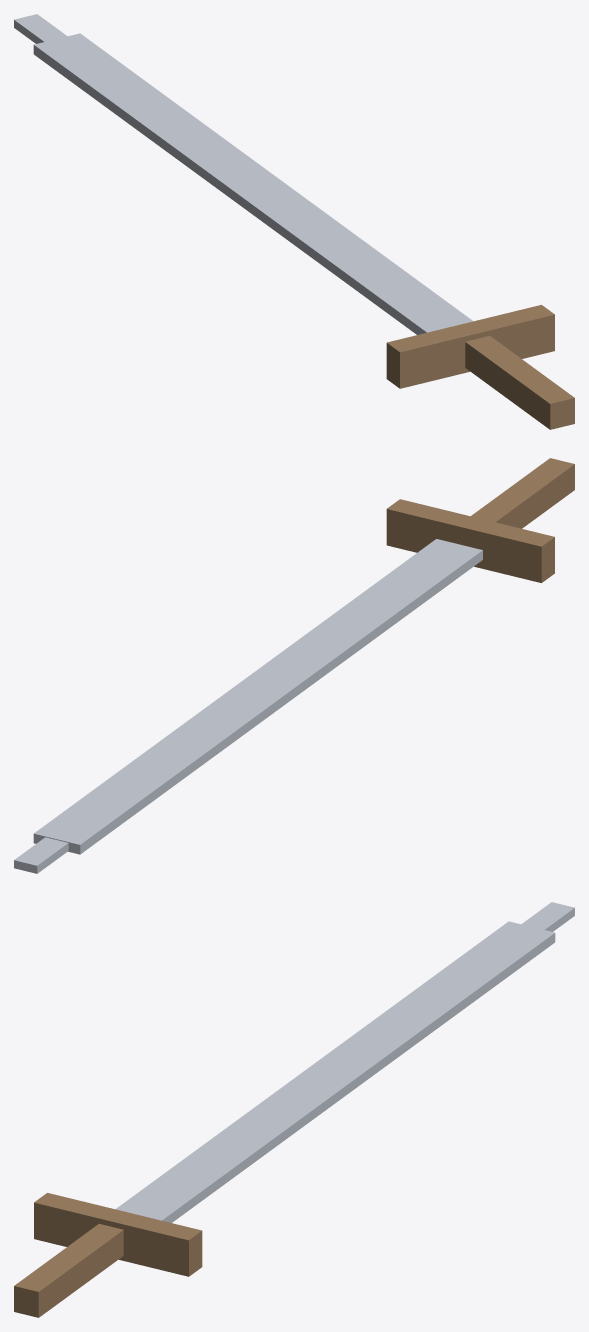
Rendered from blade.glb.
3 renders of one model, top to bottom at view 1: azimuth 30°, elevation 25°; view 2: azimuth 150°, elevation 25°; view 3: azimuth 330°, elevation 25°, orthographic.
Parts seen in each view (by area): view 1: blade; view 2: blade; view 3: blade.
Part boxes in pixels (bbox=[...]): blade: bbox=[14, 14, 574, 429]; blade: bbox=[14, 458, 574, 873]; blade: bbox=[14, 902, 574, 1317].
Size of the model in its own units: 0.2 by 0.045 by 1.2.
